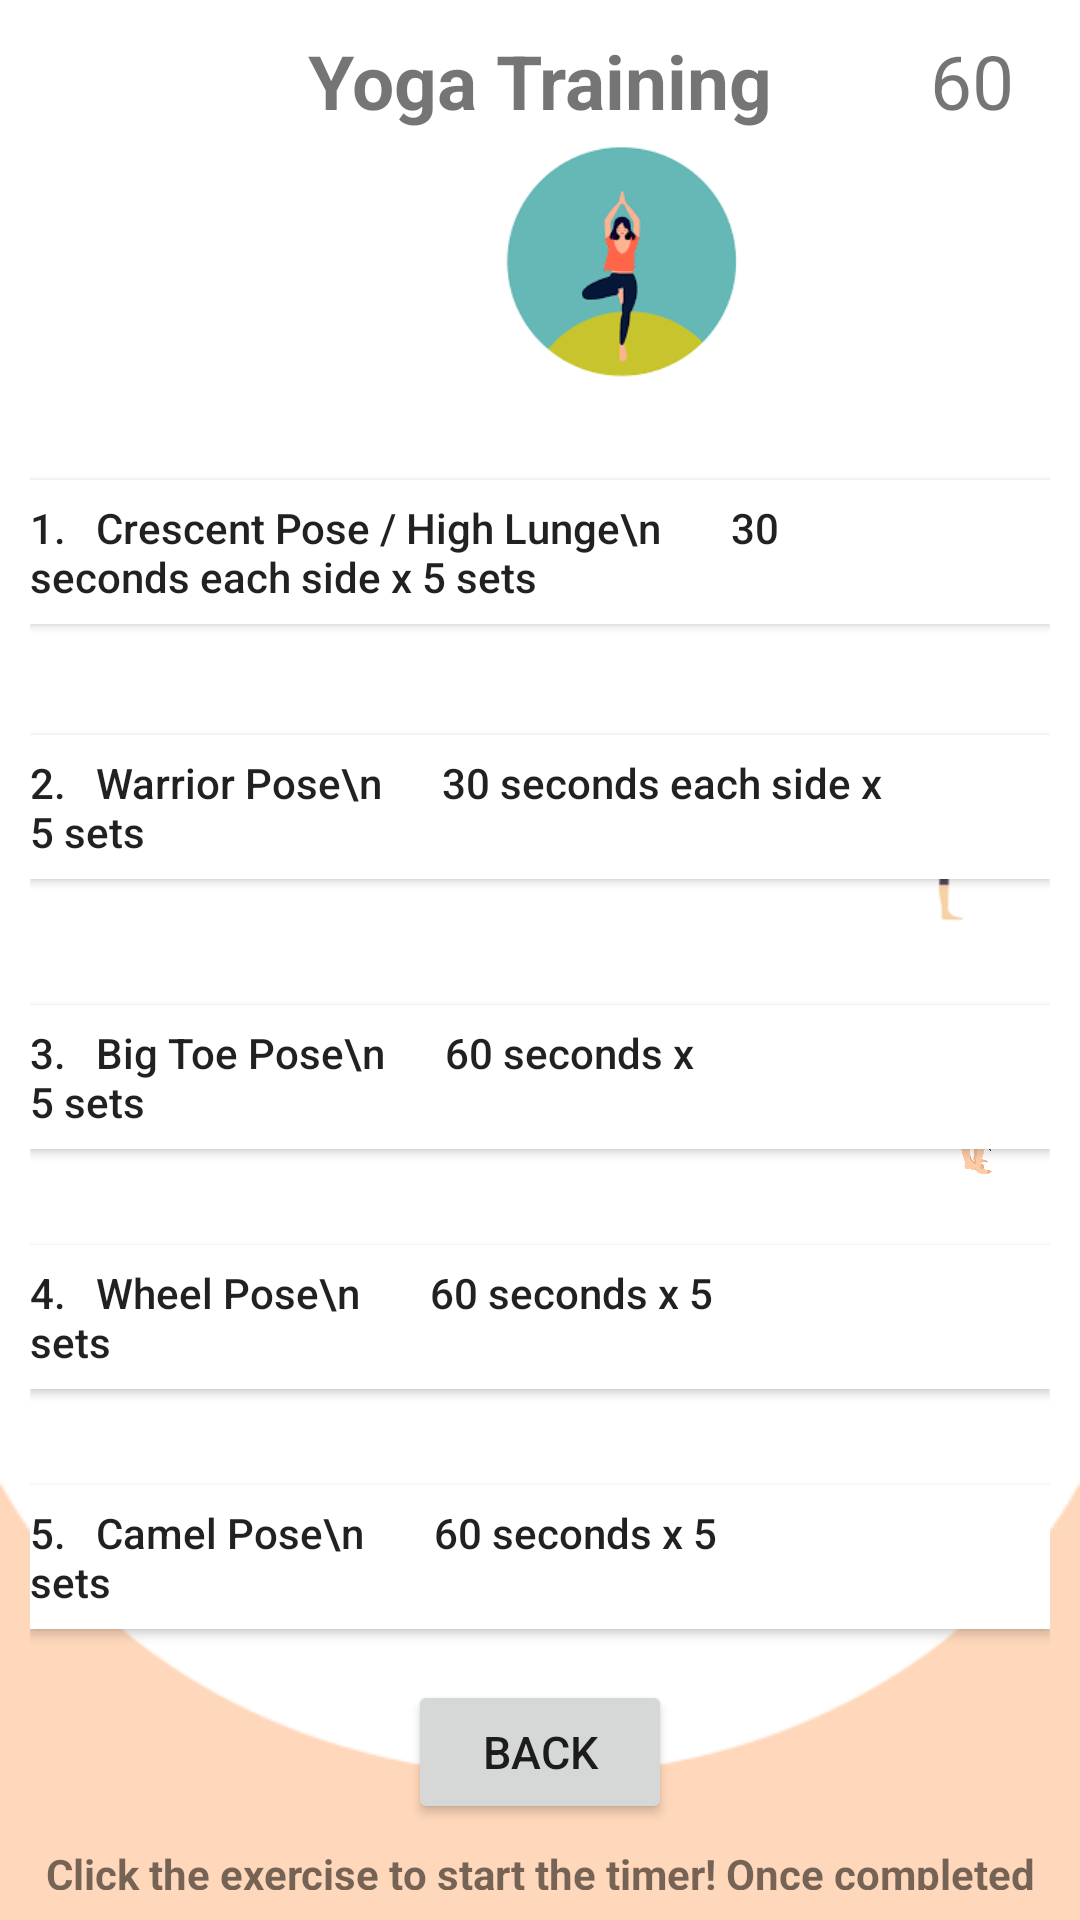

Screen size 1080×1920. Icon name, then its box in pixels as (x1, y1, x2, y2):
yogaheader: (506, 147, 736, 377)
